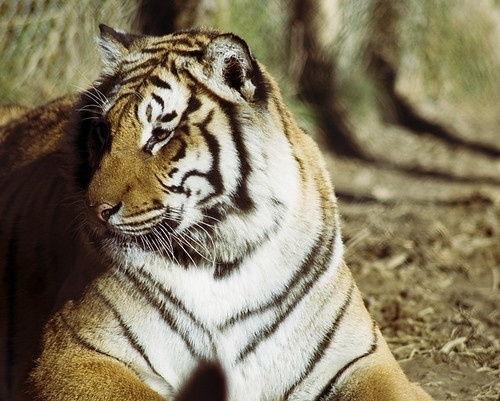tigre: (1, 20, 440, 400)
